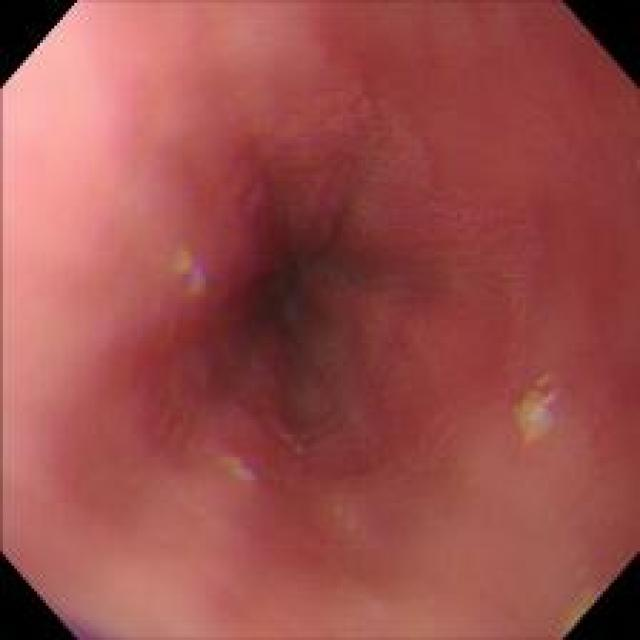blur: (112, 82, 636, 629)
color misalignment: (504, 366, 572, 449), (159, 238, 209, 301), (220, 441, 255, 488)
contrast: (254, 219, 365, 362)
